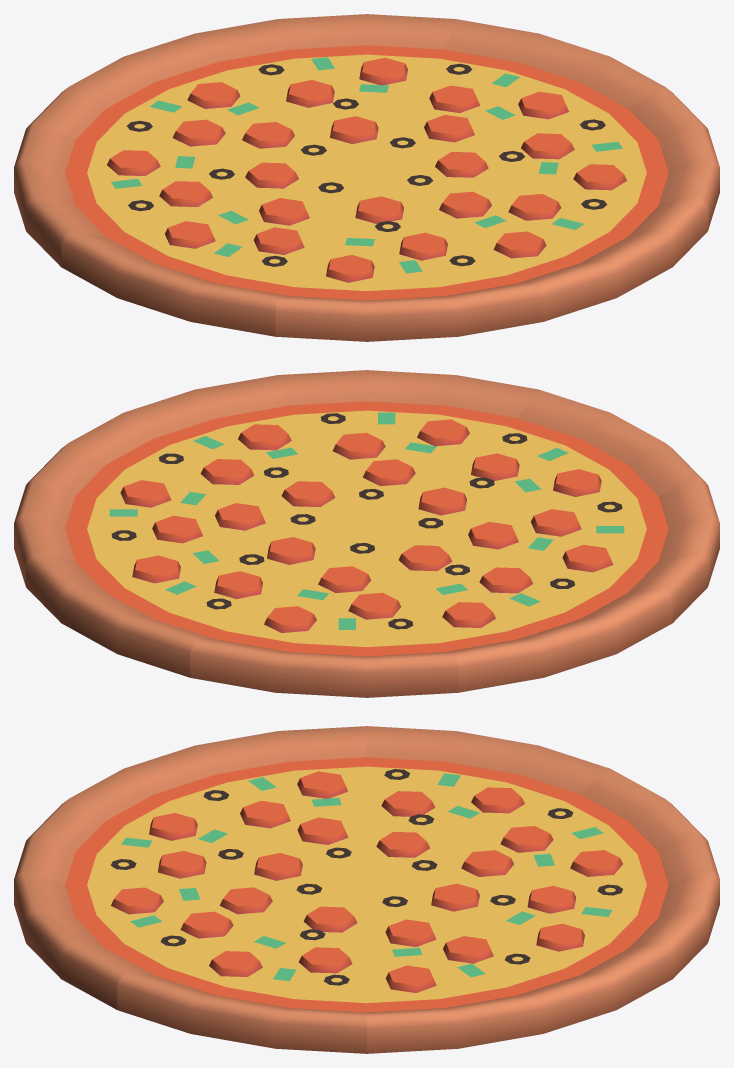
File: pizza.glb
3 views of the same model, one above another, from view 1: azimuth 30°, elevation 25°; view 2: azimuth 150°, elevation 25°; view 3: azimuth 270°, elevation 25° (orthographic).
Parts seen in each view (by area): view 1: slice7, slice8, slice6, slice3, slice4, slice1, slice2, slice5; view 2: slice2, slice1, slice3, slice6, slice5, slice8, slice7, slice4; view 3: slice4, slice5, slice6, slice3, slice8, slice1, slice2, slice7.
Part boxes in pixels (left/top/right/bottom): slice7: left=275, top=173, right=543, bottom=341; slice8: left=61, top=173, right=366, bottom=336; slice6: left=367, top=173, right=707, bottom=321; slice3: left=195, top=14, right=455, bottom=172; slice4: left=367, top=19, right=664, bottom=172; slice1: left=14, top=122, right=365, bottom=266; slice2: left=27, top=33, right=366, bottom=172; slice5: left=367, top=87, right=719, bottom=230; slice2: left=190, top=529, right=458, bottom=697; slice1: left=367, top=529, right=672, bottom=692; slice3: left=26, top=529, right=366, bottom=677; slice6: left=278, top=370, right=538, bottom=528; slice5: left=69, top=375, right=366, bottom=528; slice8: left=368, top=478, right=719, bottom=622; slice7: left=367, top=389, right=705, bottom=528; slice4: left=14, top=443, right=366, bottom=586; slice4: left=367, top=885, right=616, bottom=1053; slice5: left=117, top=885, right=366, bottom=1053; slice6: left=14, top=871, right=365, bottom=1009; slice3: left=368, top=871, right=719, bottom=1009; slice8: left=124, top=726, right=366, bottom=884; slice1: left=367, top=726, right=609, bottom=884; slice2: left=367, top=769, right=719, bottom=884; slice7: left=14, top=769, right=366, bottom=884.
Size of the model in its own units: 0.8418 by 0.0435 by 0.8418.
1 material, 1 textured.
